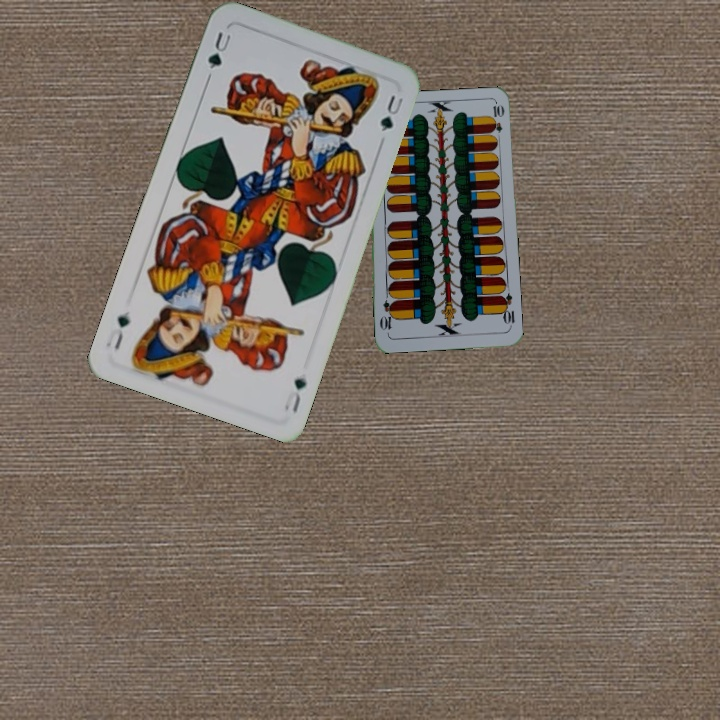E10: (497, 290, 517, 330)
GU: (203, 28, 234, 72), (280, 373, 309, 418)
